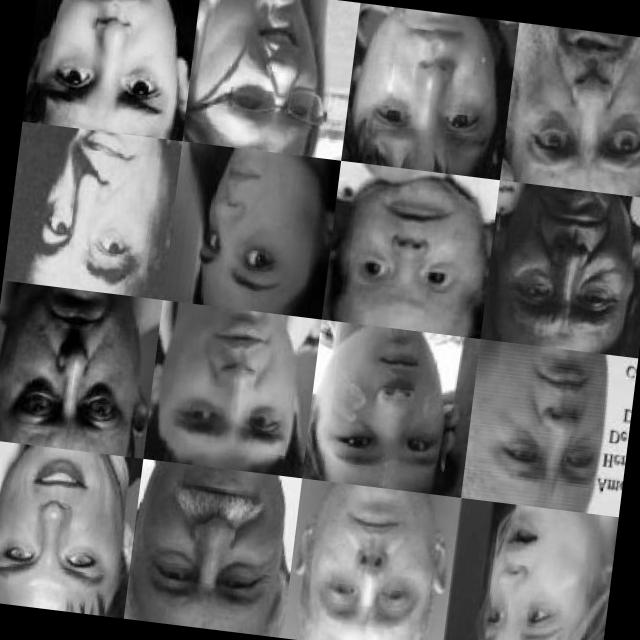angry: (0, 286, 156, 449), (515, 24, 640, 192)
fear: (36, 0, 182, 133), (469, 510, 603, 640)
happy: (134, 460, 288, 626), (192, 0, 333, 152), (346, 176, 486, 327), (0, 438, 124, 598)
neutral: (8, 122, 178, 301), (174, 156, 332, 314), (287, 488, 450, 640), (158, 306, 306, 468), (470, 350, 620, 508), (492, 186, 637, 346), (315, 326, 457, 488)
sad: (356, 4, 511, 166)
